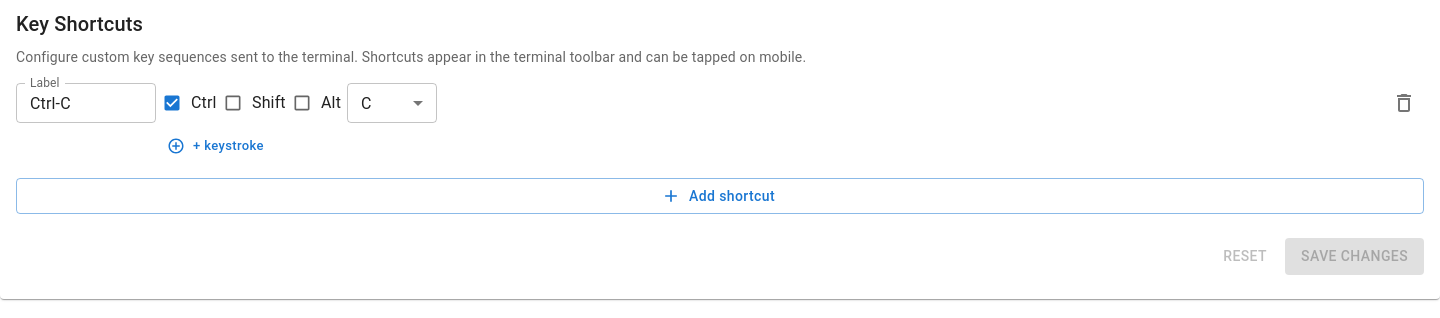
Test: KeyShortcutsSettings › Delete shortcut › Save Changes becomes enabled after deleting a shortcut
Click the button named "delete shortcut 1" at (1404, 103), box [1384, 83, 1424, 123]
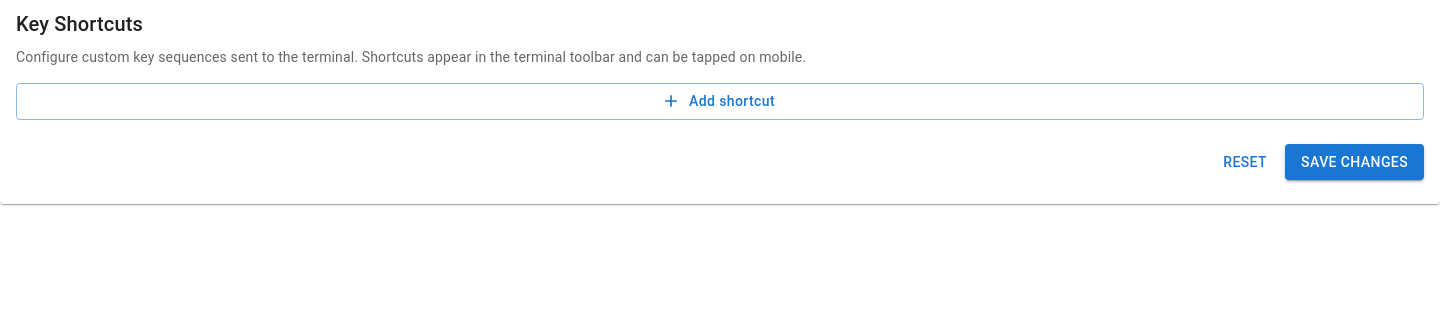
Expected: the button "Save Changes" is enabled, [1285, 144, 1424, 180]
